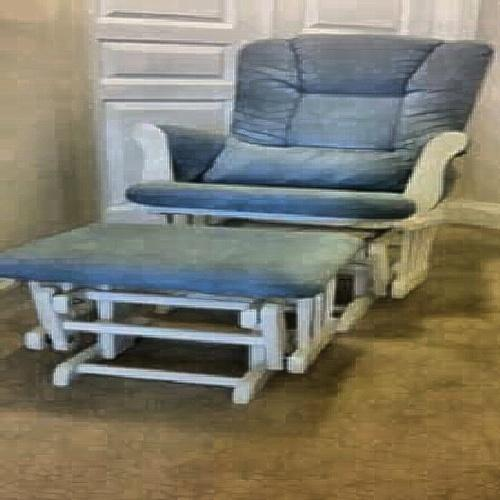chair: (149, 42, 466, 273)
